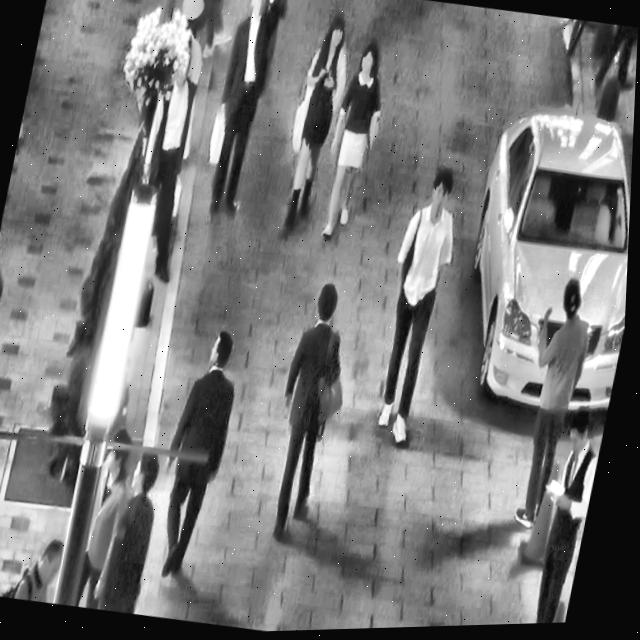light_vehicle: (438, 85, 637, 435)
